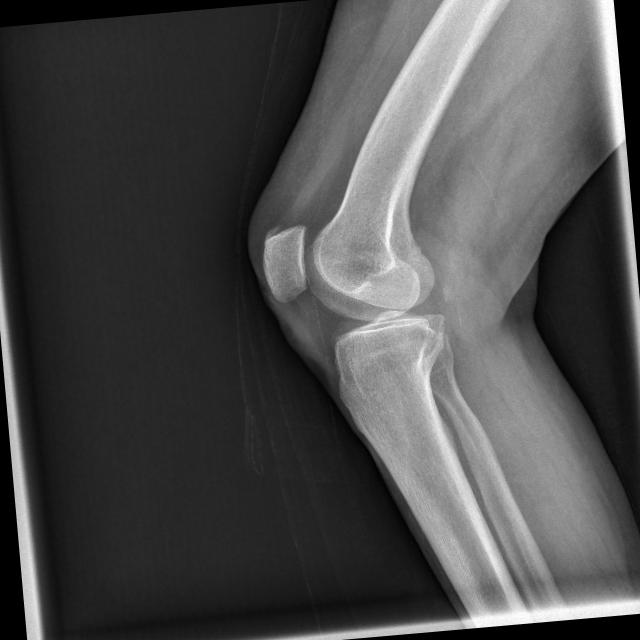Knee: (256, 210, 452, 394)
